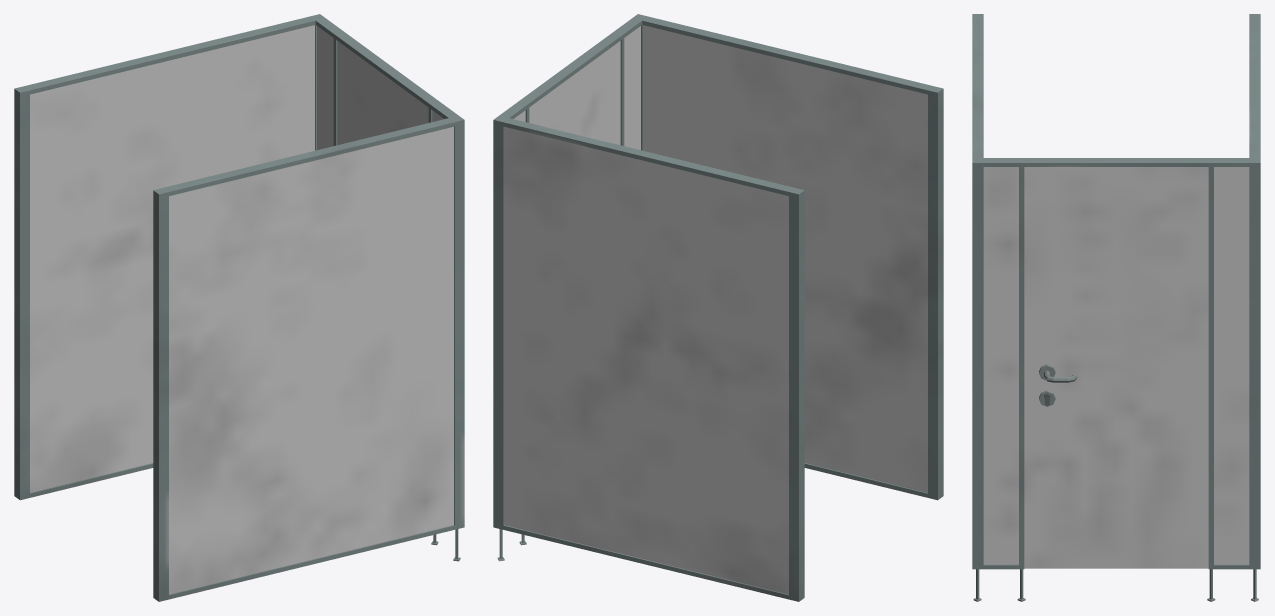
The model's file is toilet cabin 1.fbx.
3 renders of one model, left to right at view 1: azimuth 30°, elevation 25°; view 2: azimuth 150°, elevation 25°; view 3: azimuth 270°, elevation 25°, orthographic.
Visible parts, largest first — view 1: Toilet cabin, Door; view 2: Toilet cabin, Door; view 3: Door, Toilet cabin.
Part boxes in pixels (x1,y1,x2,y2): Toilet cabin: (14,14,464,601); Door: (337,41,428,145); Toilet cabin: (493,14,943,601); Door: (529,41,620,145); Door: (1024,167,1208,568); Toilet cabin: (972,14,1260,601).
Size of the model in its own units: 161 by 210 by 125.
Materials: 1 (1 with a texture image).
